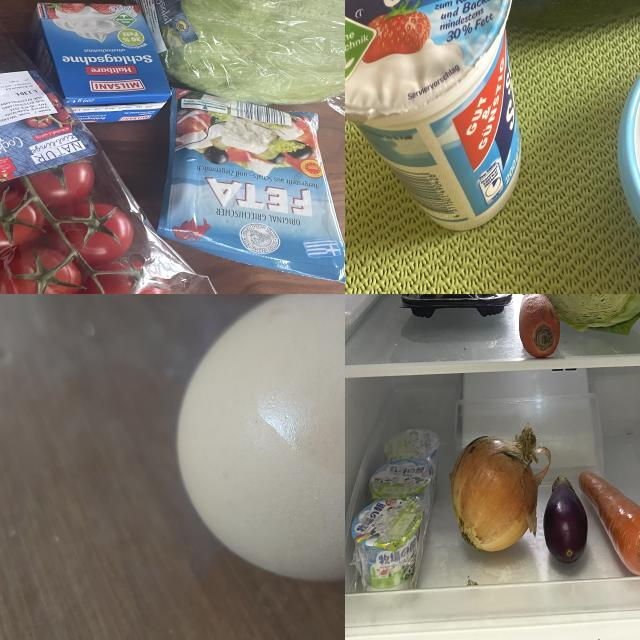cabbage: (143, 1, 346, 136), (532, 295, 640, 332)
carrot: (577, 469, 640, 574), (518, 295, 563, 361)
egg: (168, 295, 346, 594)
eggplant: (543, 472, 590, 563)
onion: (450, 424, 539, 550)
tomato: (1, 5, 220, 295)
